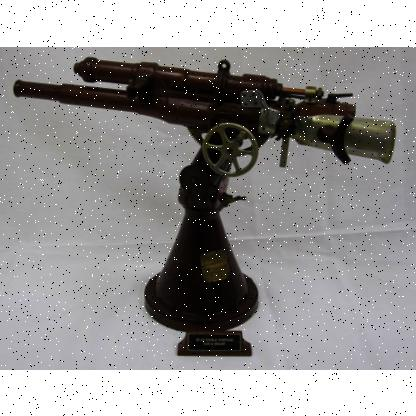gun: (86, 61, 406, 186)
